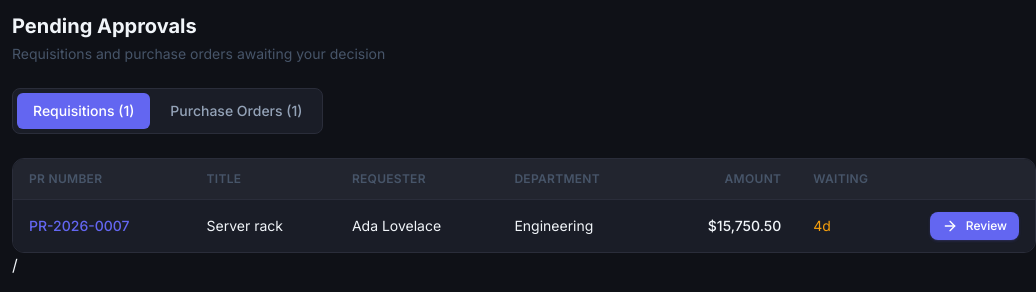
Test: ApprovalQueuePage › routes to the matching review page for the entity type
Step 1. Click the button "Review" → (974, 226), box [930,212,1019,240]
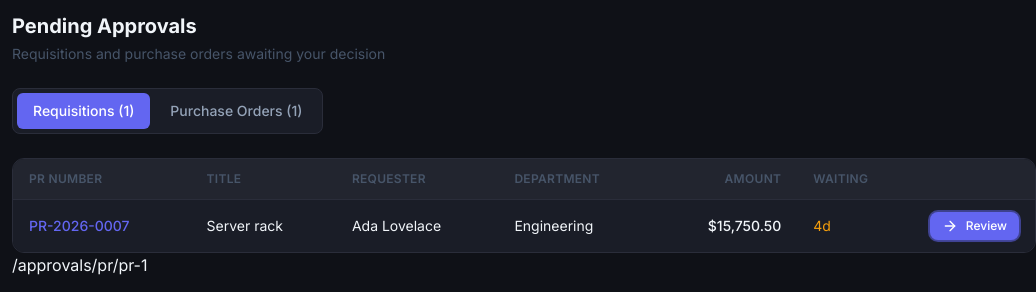
expect the text "/approvals/pr/pr-1" is shown: met, box [12,255,148,275]
